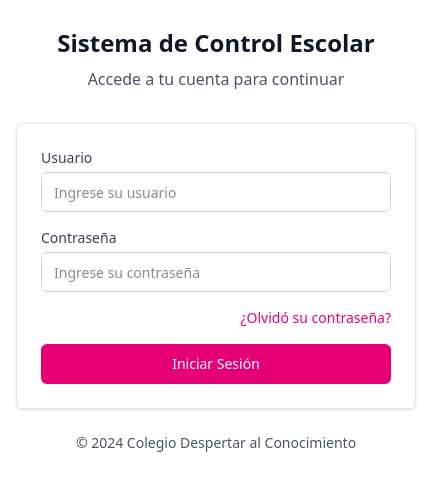
Test case: Login › muestra error si handleLogin falla
Type "invalido@test.com" into the field labelled "Usuario" at {"x": 216, "y": 192}, box [41,172,391,212]
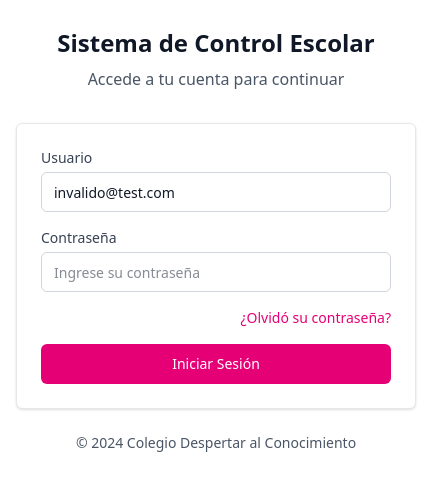
Type "wrongpass" into the password field labelled "Contraseña" at {"x": 216, "y": 272}, box [41,252,391,292]
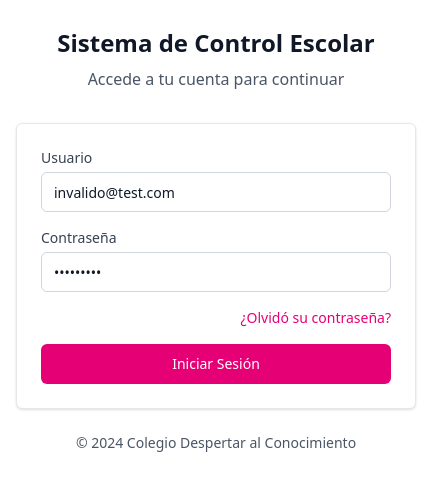
Click the button "Iniciar Sesión" at {"x": 216, "y": 364}, box [41,344,391,384]
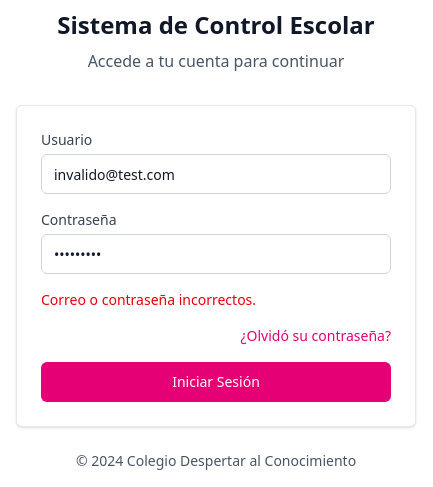
Expected: the text "Correo o contraseña incorrectos." is shown, [41,290,256,309]
